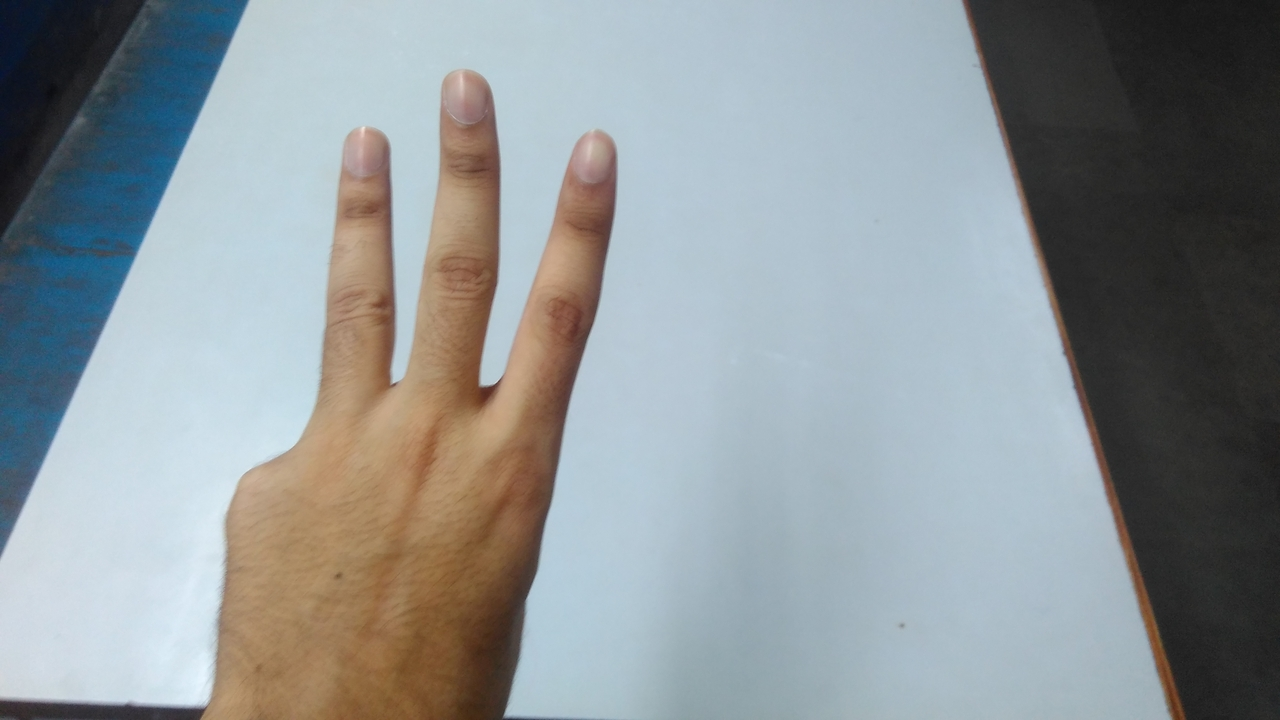fingertip: (556, 122, 624, 186), (432, 66, 496, 124), (328, 124, 392, 180)
